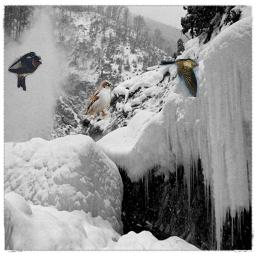Cuckoo: (159, 59, 199, 97)
Sparrow: (80, 80, 113, 120)
Swallow: (8, 51, 42, 91)
